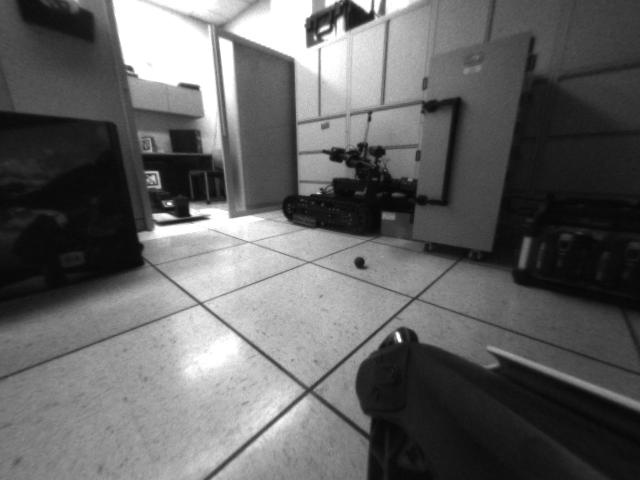dogtoy: (351, 251, 372, 274)
